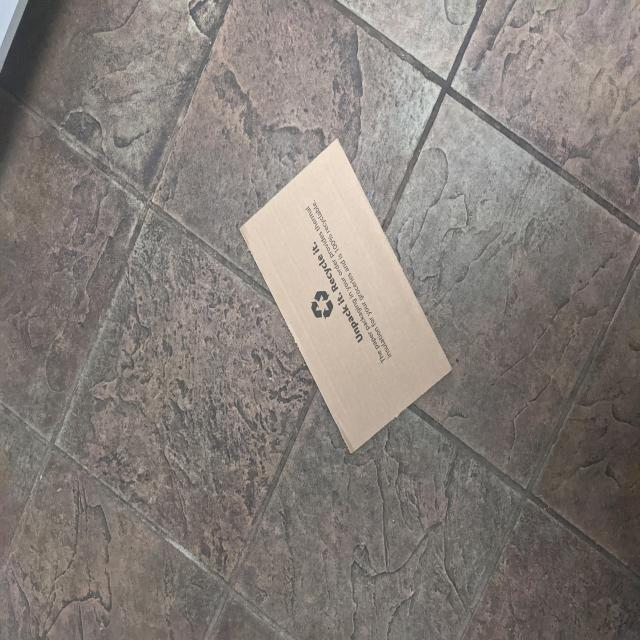litter: (240, 137, 451, 451)
